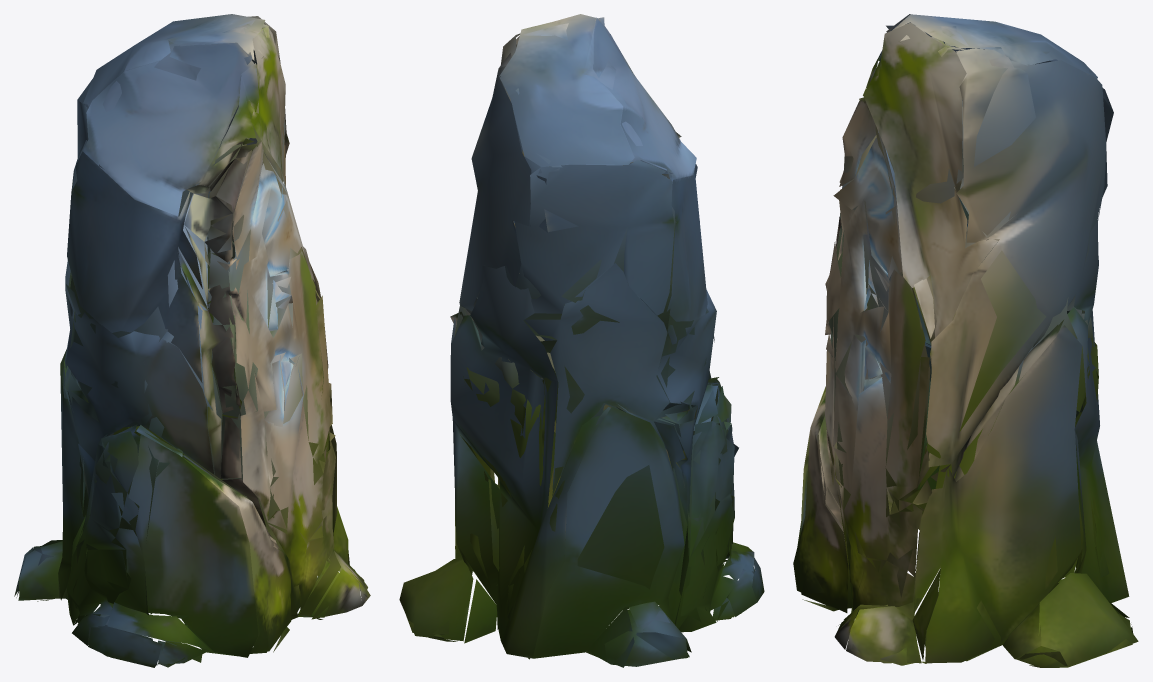
The model's file is stone_hy_runes_lite.glb.
The picture shows the model from 3 angles, left to right: view 1: azimuth 30°, elevation 25°; view 2: azimuth 150°, elevation 25°; view 3: azimuth 270°, elevation 25°; orthographic projection. The views are drawn at different scales.
Visible parts, largest first — view 1: stone_hy_runes_lite; view 2: stone_hy_runes_lite; view 3: stone_hy_runes_lite.
Part boxes in pixels (x1,y1,x2,y2): stone_hy_runes_lite: (14, 14, 370, 667); stone_hy_runes_lite: (399, 14, 764, 667); stone_hy_runes_lite: (793, 14, 1138, 667).
Bounding box in the file's own units: 2.19 × 4.15 × 2.19.
Materials: 1 (1 with a texture image).
